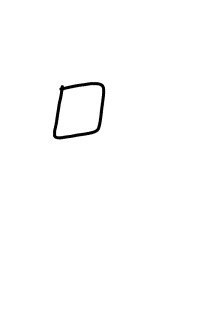Square: (51, 80, 107, 144)
